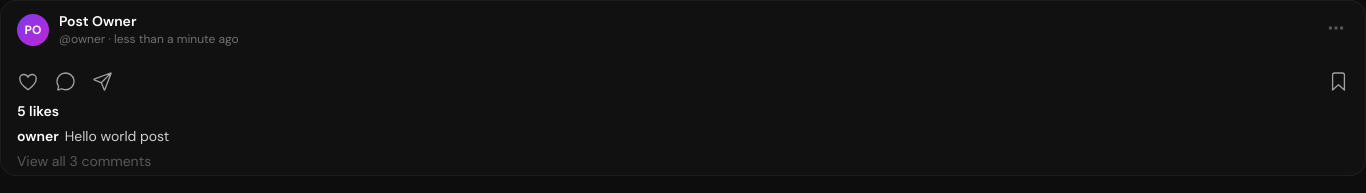
Scenario: PostCard › shows delete option after clicking ellipsis
Note: First button in the header area opens the menu
Click the 1st button at (1336, 28), box [1323,15,1349,41]
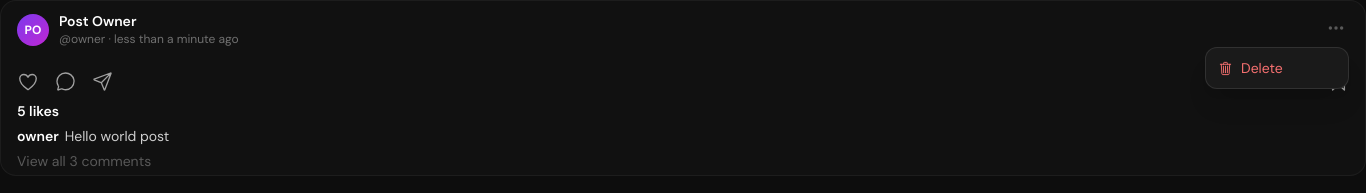
Expected: the button "Delete" is shown, [1206,48,1348,88]
